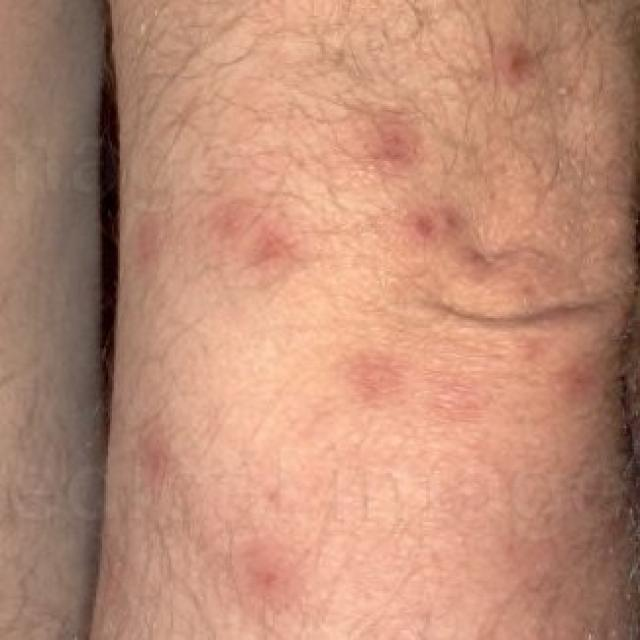kan emici bocekler: (213, 180, 324, 293), (353, 101, 432, 194), (328, 359, 419, 422), (138, 425, 217, 495), (487, 32, 561, 101), (253, 544, 309, 610)
